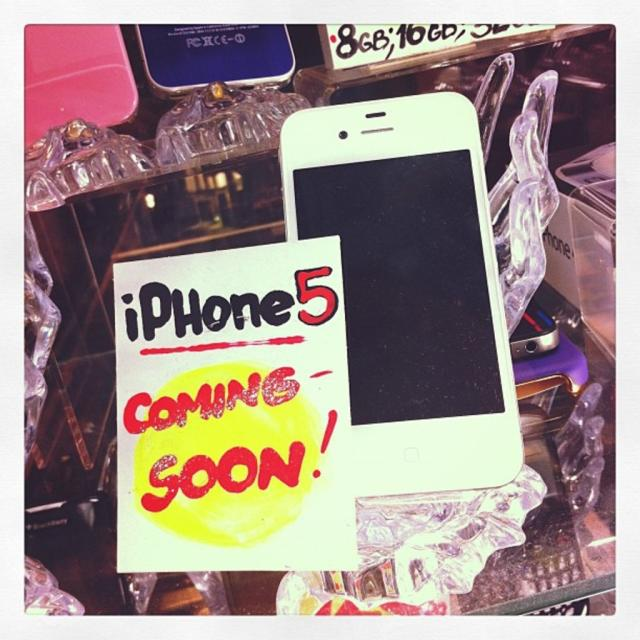Mobile-phone: (275, 89, 525, 502)
